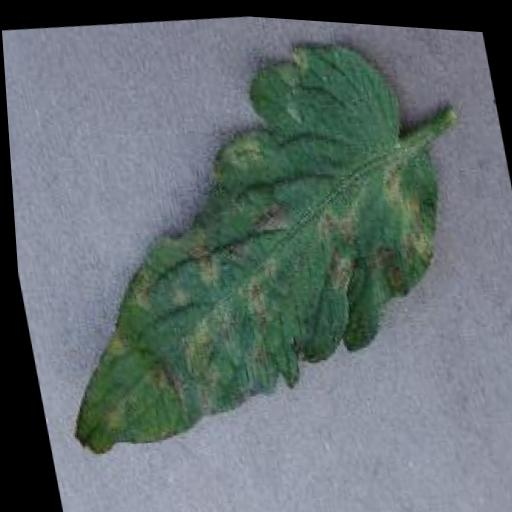Leaf Mold: (1, 10, 486, 475)
